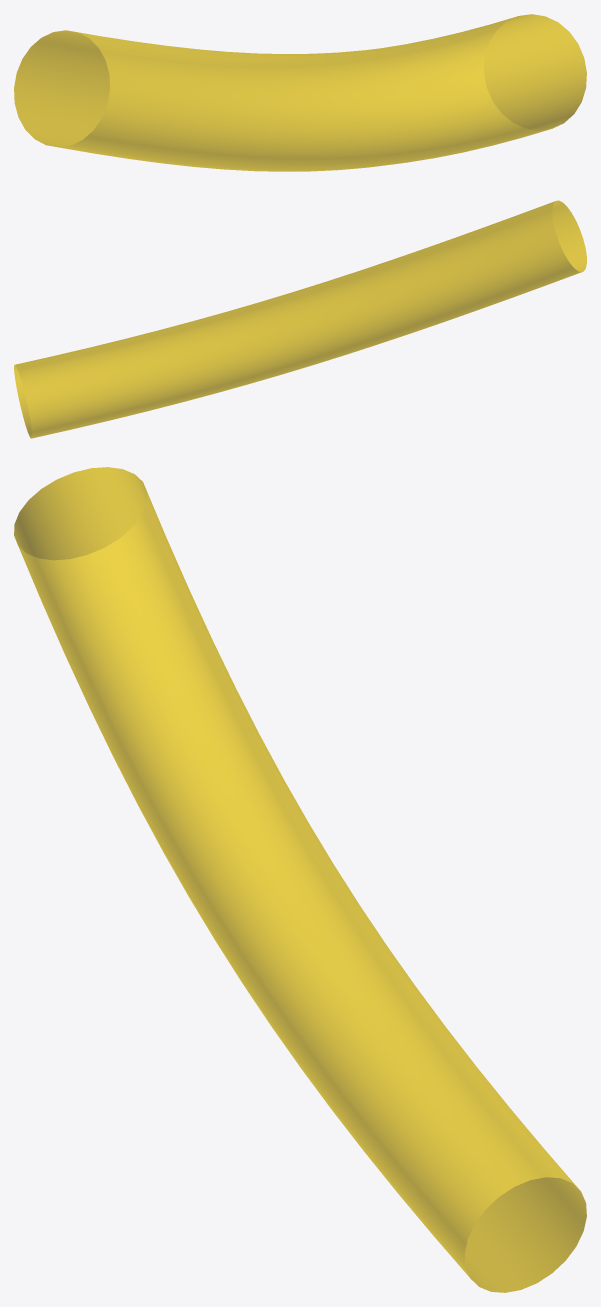
Rendered from Event_419990632_track_68.fbx.
The picture shows the model from 3 angles, top to bottom: view 1: azimuth 30°, elevation 25°; view 2: azimuth 150°, elevation 25°; view 3: azimuth 270°, elevation 25°; orthographic projection. The views are drawn at different scales.
Parts seen in each view (by area): view 1: Model; view 2: Model; view 3: Model.
Part boxes in pixels (box(x1,y1,x2,y2)): Model: box(14, 14, 586, 171); Model: box(14, 200, 586, 438); Model: box(14, 467, 586, 1292).
Bounding box in the file's own units: 0.2803 × 0.1426 × 0.1626.
